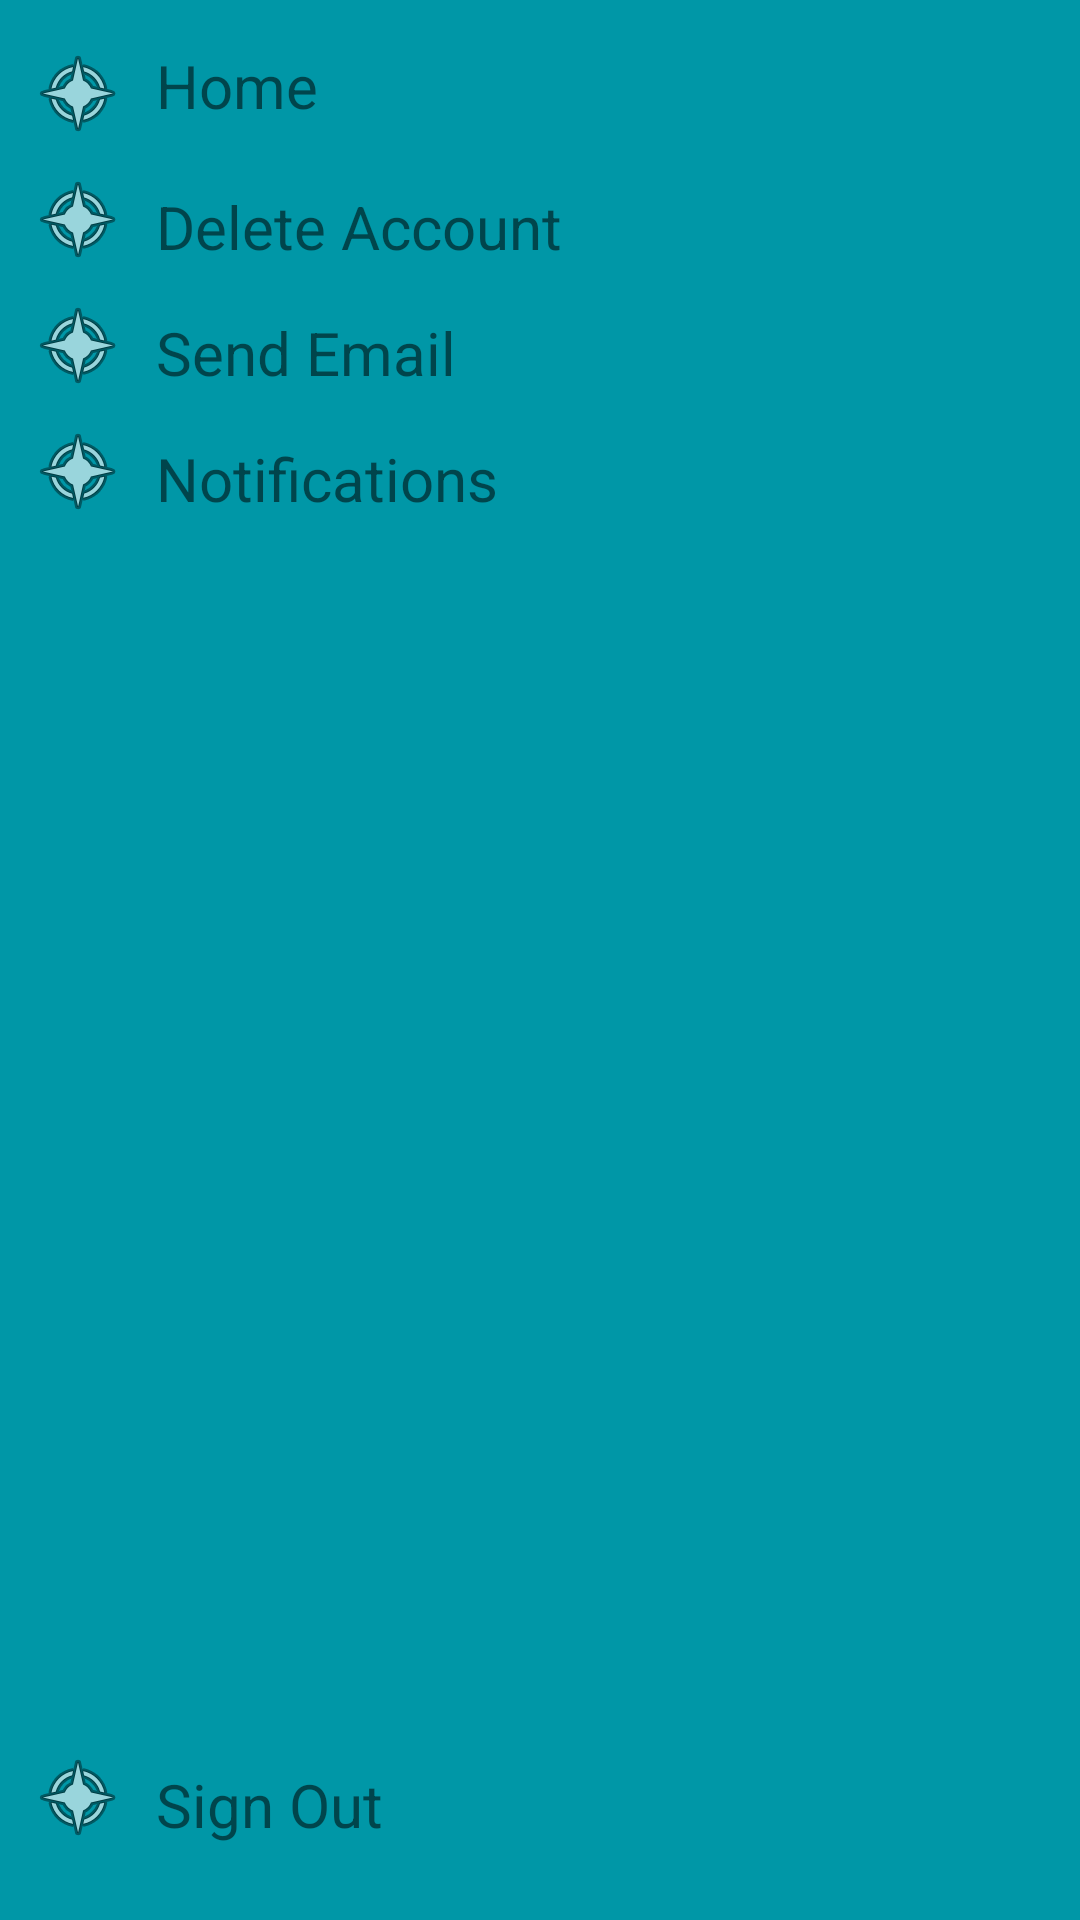

Icons on this 1080*1920 Android screen, each with the point to tap as [x,y]:
compass: [77,93], [77,219], [77,345], [77,471], [77,1797]
